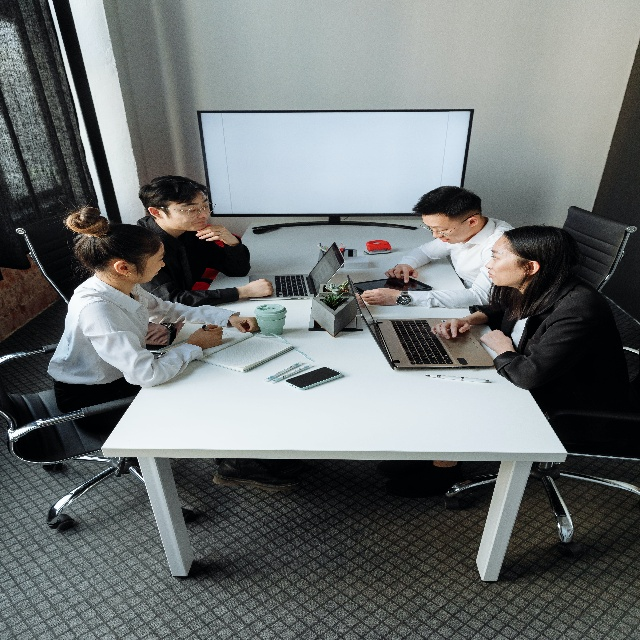Gafas: (420, 211, 479, 238), (154, 202, 216, 218)
Sin_guantes: (479, 327, 513, 356), (186, 323, 223, 349), (430, 317, 471, 340), (195, 222, 235, 245), (360, 284, 399, 306), (384, 263, 418, 285), (229, 313, 260, 334), (247, 276, 274, 299)
